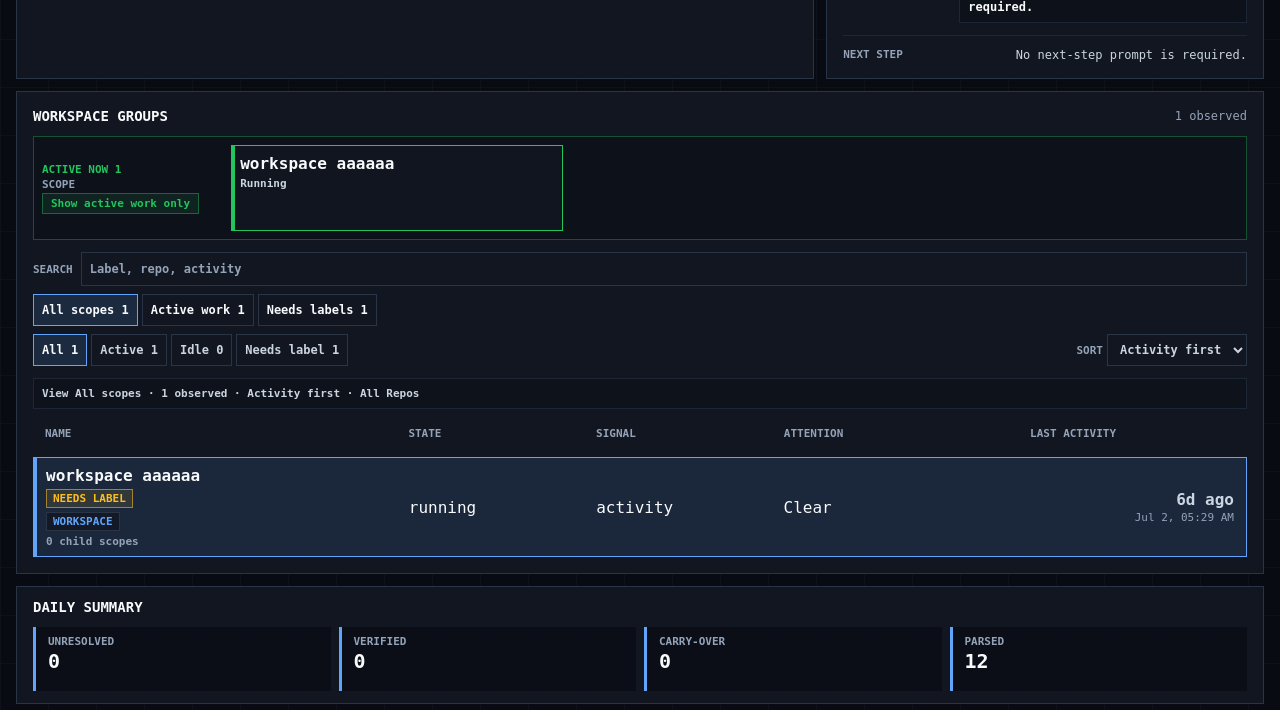
Test: AppView › clears the selected detail when a filter has no matching workspace groups
This screenshot has width=1280, height=710.
(page scrolled)
Step 1. Click the button "Idle 0" → (202,350), box [171, 334, 232, 366]
(page scrolled)
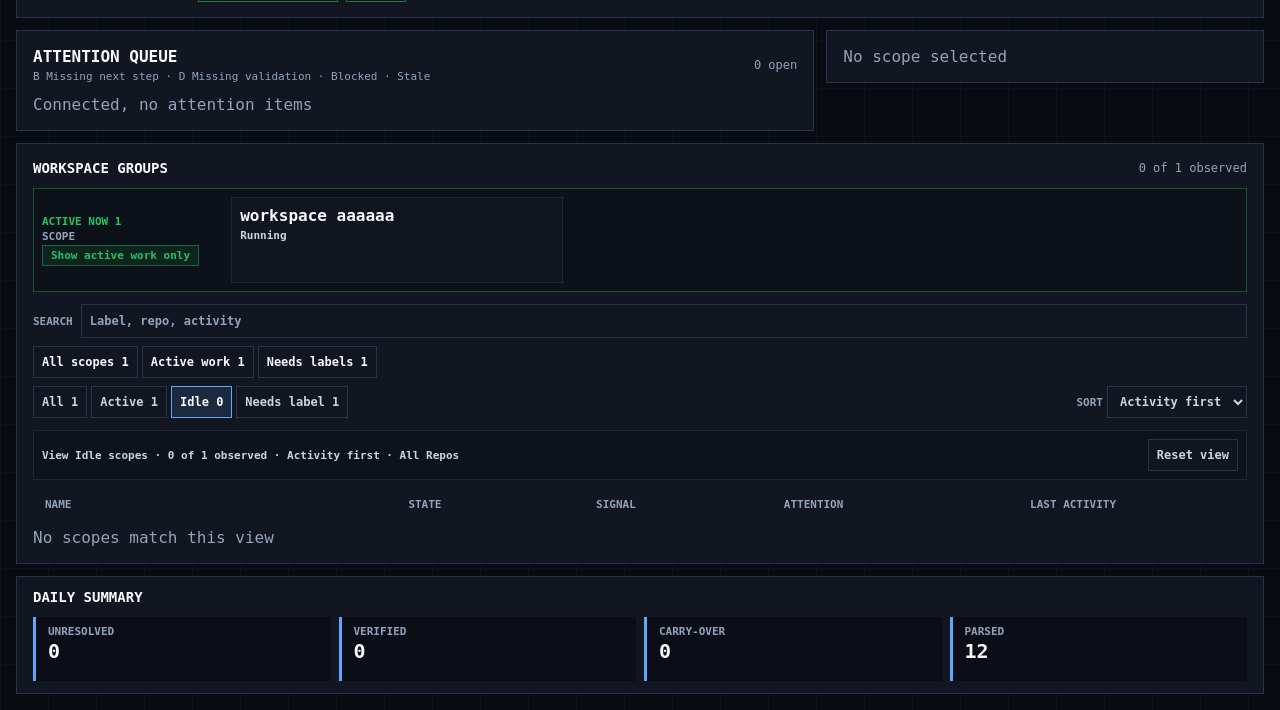
Now the text "0 of 1 observed" is shown, box [1139, 161, 1247, 175]
Now the text "No scopes match this view" is shown, box [33, 528, 274, 547]
Now the text "No scope selected" is shown, box [843, 47, 1007, 66]
